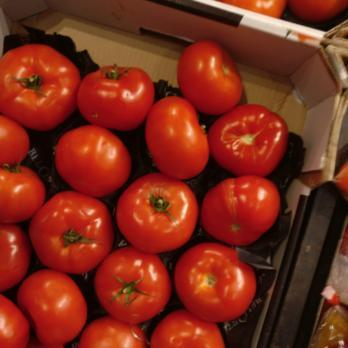Tomato: (0, 43, 291, 348)
